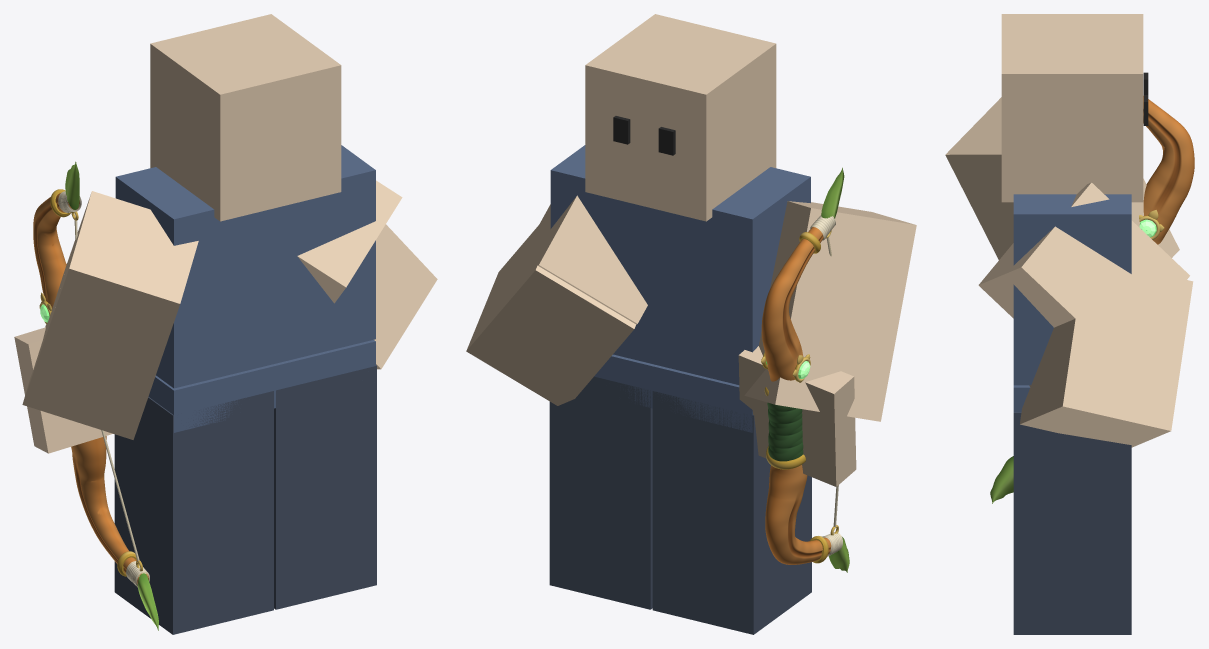
The model's file is leaf_bow_r15.glb.
The picture shows the model from 3 angles, left to right: view 1: azimuth 30°, elevation 25°; view 2: azimuth 150°, elevation 25°; view 3: azimuth 270°, elevation 25°; orthographic projection.
Parts seen in each view (by area): view 1: part_1, part_2, part_5, part_30, part_31, part_34, part_33, part_6, part_0, part_32, part_27, part_7 (+6 smaller); view 2: part_2, part_1, part_30, part_5, part_33, part_28, part_31, part_34, part_6, part_27, part_7, part_0 (+8 smaller); view 3: part_2, part_27, part_28, part_33, part_1, part_29, part_34, part_5, part_35, Limb_Upper, Riser, part_6 (+2 smaller).
Part boxes in pixels (x1,y1,x2,y2): part_1: [115, 145, 375, 388]; part_2: [150, 14, 341, 221]; part_5: [37, 191, 198, 395]; part_30: [114, 391, 273, 534]; part_31: [114, 454, 273, 622]; part_34: [274, 446, 376, 597]; part_33: [274, 365, 376, 516]; part_6: [22, 247, 159, 439]; part_0: [148, 340, 375, 432]; part_32: [114, 561, 273, 634]; part_27: [297, 180, 402, 303]; part_7: [14, 327, 112, 453]; part_2: [585, 14, 776, 221]; part_1: [550, 145, 810, 384]; part_30: [652, 391, 811, 538]; part_5: [761, 201, 916, 358]; part_33: [549, 376, 652, 516]; part_28: [480, 225, 635, 393]; part_31: [652, 475, 811, 622]; part_34: [549, 447, 652, 597]; part_6: [744, 277, 902, 421]; part_27: [510, 195, 647, 324]; part_7: [738, 346, 856, 486]; part_0: [594, 354, 752, 432]; part_2: [1001, 14, 1143, 202]; part_27: [978, 182, 1189, 360]; part_28: [1028, 257, 1193, 400]; part_33: [1013, 412, 1131, 541]; part_1: [1013, 194, 1131, 385]; part_29: [1020, 372, 1176, 447]; part_34: [1013, 541, 1131, 602]; part_5: [945, 97, 1146, 243]; part_35: [1013, 603, 1131, 634]; Limb_Upper: [1143, 96, 1194, 200]; Riser: [1143, 180, 1183, 244]; part_6: [990, 178, 1179, 259].
Bounding box in the file's own units: 3.87 × 4.95 × 2.07.
